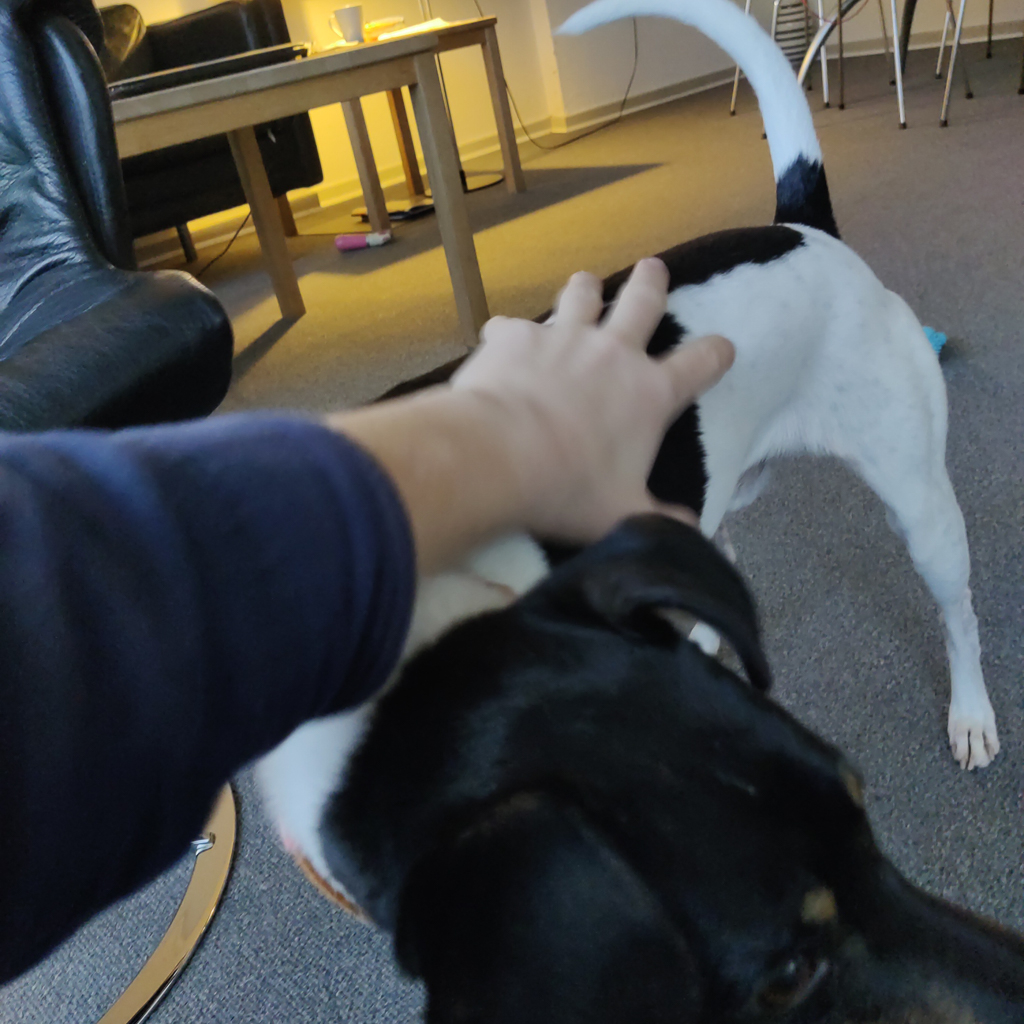Dog: (210, 0, 1024, 1024)
Humanoid: (0, 221, 780, 1003)
